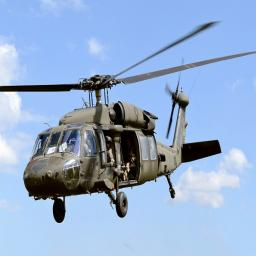helicopter: (1, 19, 256, 227)
